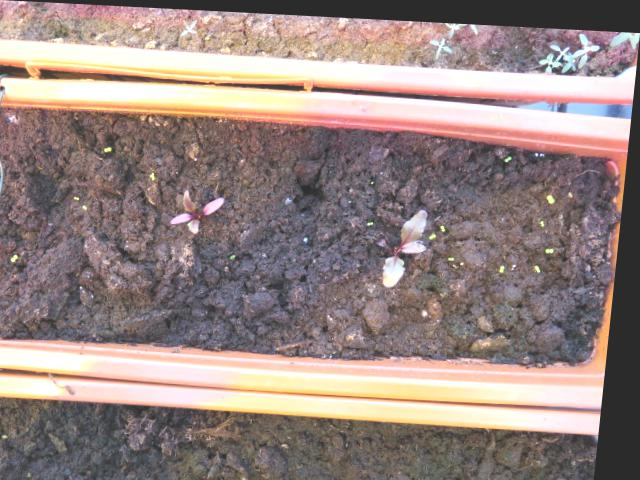crop: (167, 184, 231, 237)
weed: (174, 13, 203, 35), (102, 141, 118, 154), (13, 248, 25, 264), (500, 252, 511, 269), (547, 184, 559, 199), (503, 146, 516, 159), (149, 166, 160, 181), (540, 208, 549, 224), (231, 246, 243, 258), (545, 238, 559, 248), (537, 255, 547, 269), (449, 247, 460, 258), (82, 199, 92, 210), (441, 215, 449, 228), (367, 215, 378, 222), (75, 191, 83, 200)
